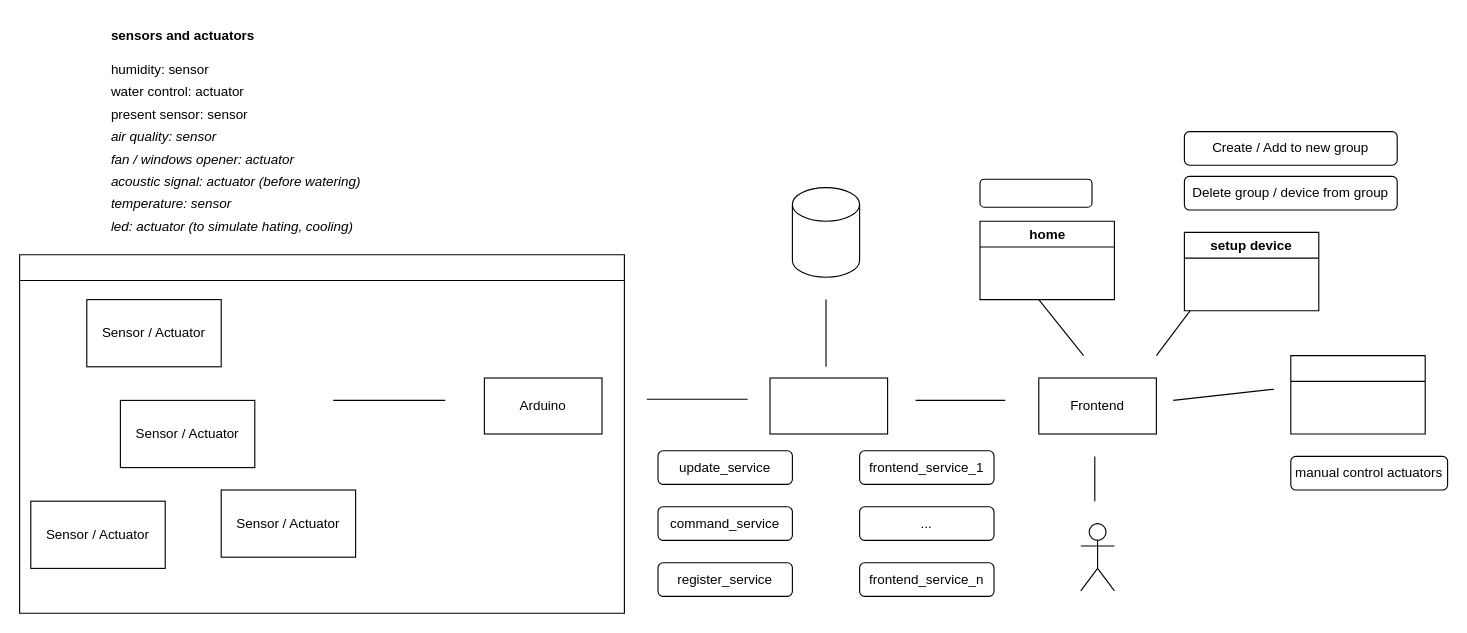
This 1467x633 diagram has some shape labels left out. The centre of each missing label's shape, as x and y in pixels:
"Backend" goes at point 828,405.
"control" goes at point 1357,394.
"DB" goes at point 825,231.
"show stats" goes at point 1035,192.
"Smart Greenhouse" goes at point 321,433.
"User" goes at point 1097,556.
